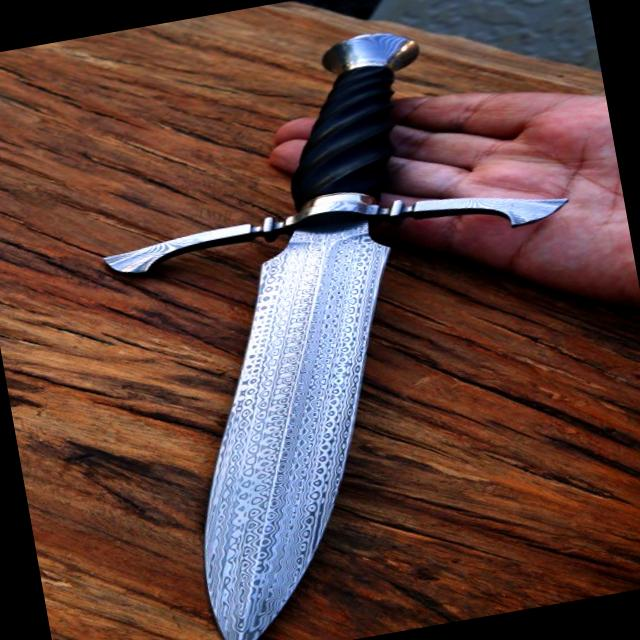short sword: (22, 0, 640, 640)
